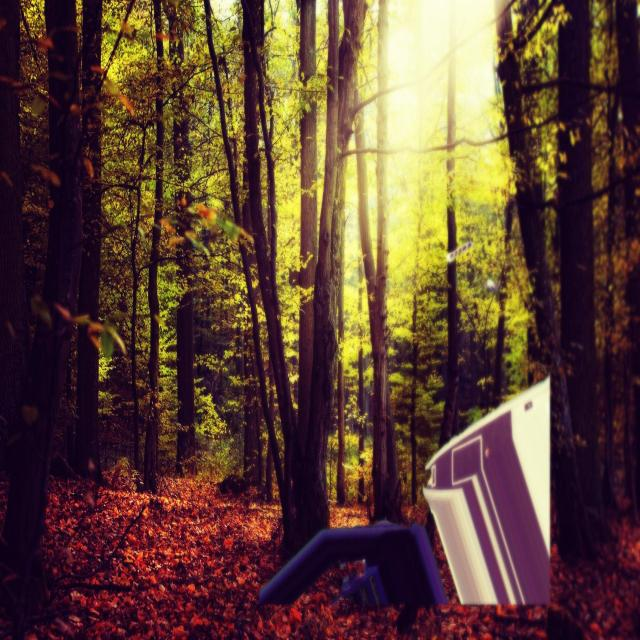airplane: (258, 373, 552, 611)
